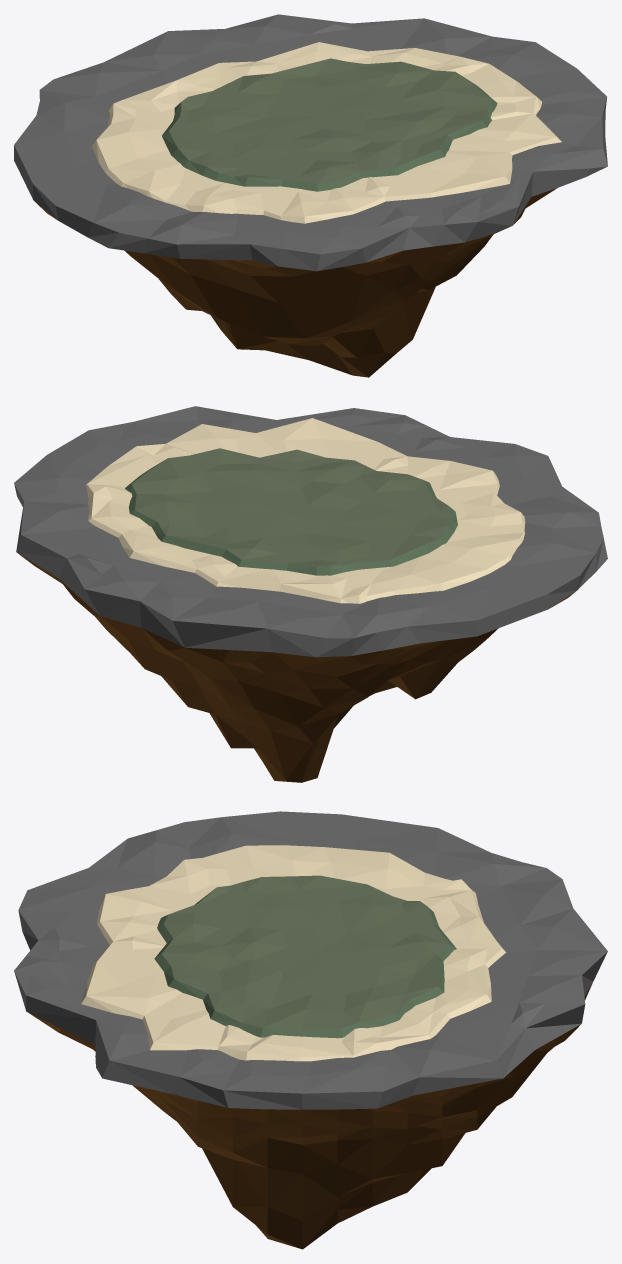
Rendered from Floting Base.fbx.
3 renders of one model, top to bottom at view 1: azimuth 30°, elevation 25°; view 2: azimuth 150°, elevation 25°; view 3: azimuth 270°, elevation 25°, orthographic. The views are drawn at different scales.
Visible parts, largest first — view 1: M_Floting Base; view 2: M_Floting Base; view 3: M_Floting Base.
Part boxes in pixels (x1,y1,x2,y2): M_Floting Base: (14,14,607,377); M_Floting Base: (14,406,607,782); M_Floting Base: (14,811,607,1249).
Bounding box in the file's own units: 23.55 × 11.15 × 20.95.
1 material, 1 textured.
